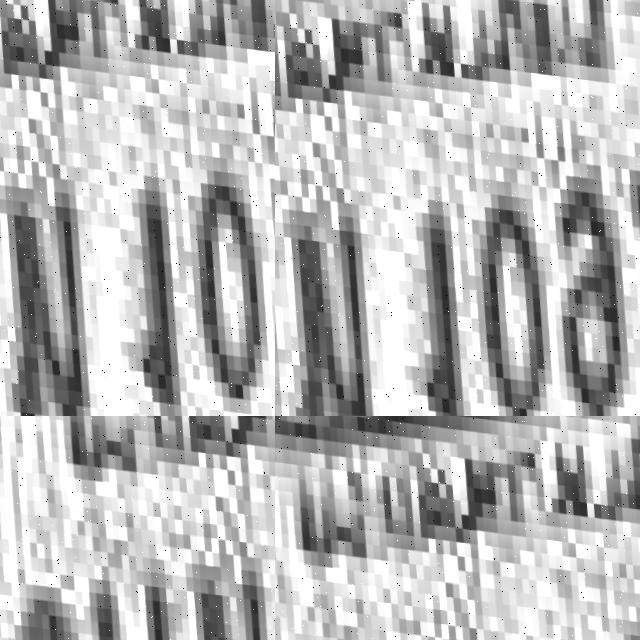license-plate: (275, 0, 640, 416), (0, 0, 275, 416), (275, 416, 640, 640), (0, 416, 275, 640)
